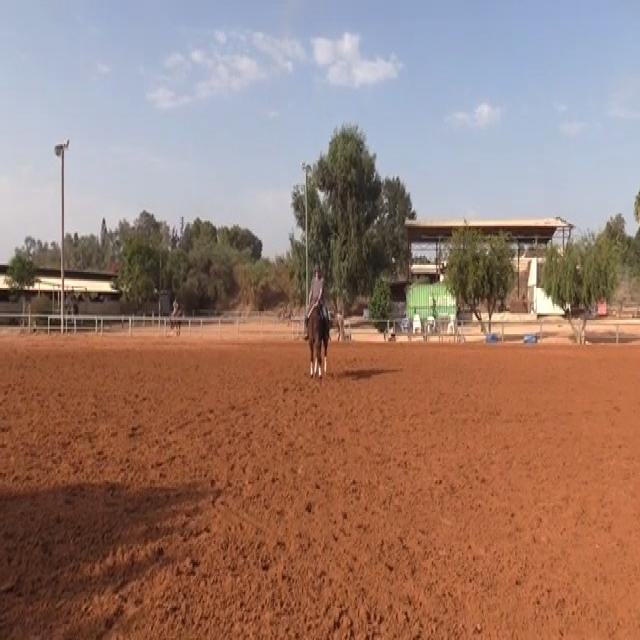horse: (304, 297, 331, 380)
